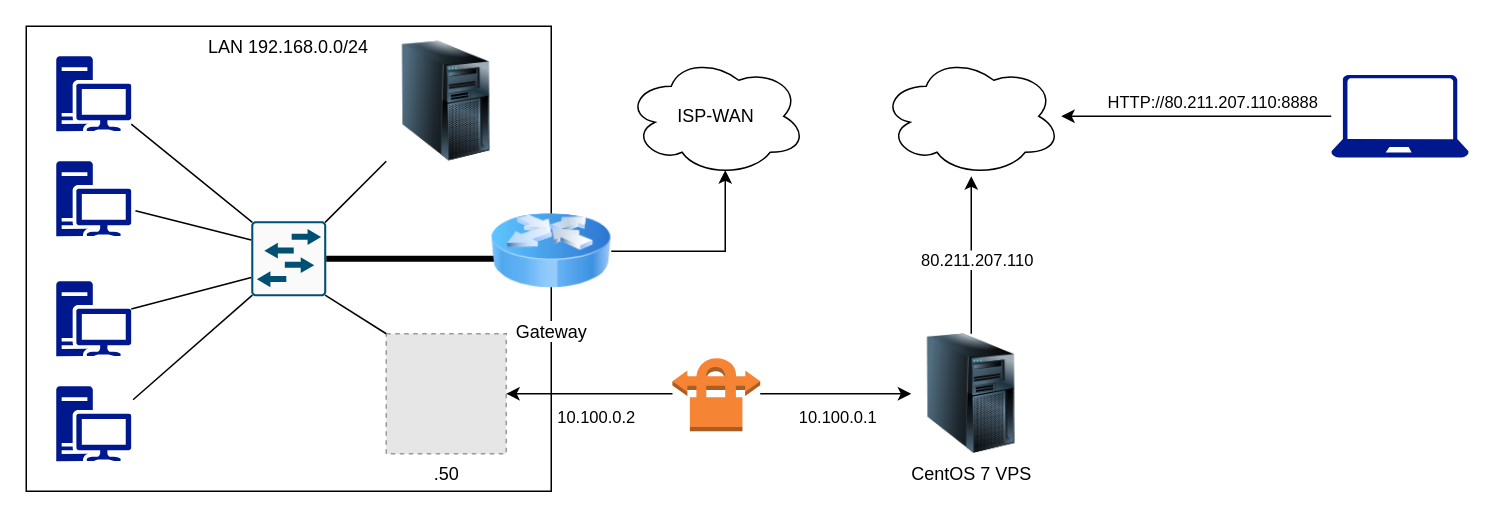
This 1496x518 diagram has some shape labels left out. Grey dashed boxes stand in for pictures. Each missing label, with the box of its shape:
HTTP Server @ 0.100:80: (386, 40, 506, 160)
INTERNET: (880, 55, 1061, 176)
WireGuard Tunel: (671, 355, 760, 431)
